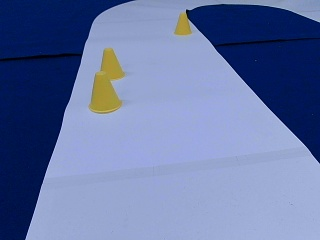cone: (88, 72, 122, 112), (99, 49, 125, 80), (174, 13, 190, 35)
